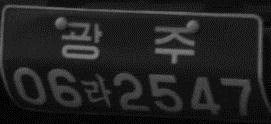0: (12, 66, 46, 107)
2: (113, 71, 148, 112)
4: (189, 75, 221, 116)
5: (149, 73, 183, 114)
6: (47, 68, 82, 109)
7: (221, 76, 252, 118)
광주_D: (60, 21, 195, 64)
라: (82, 73, 112, 109)
